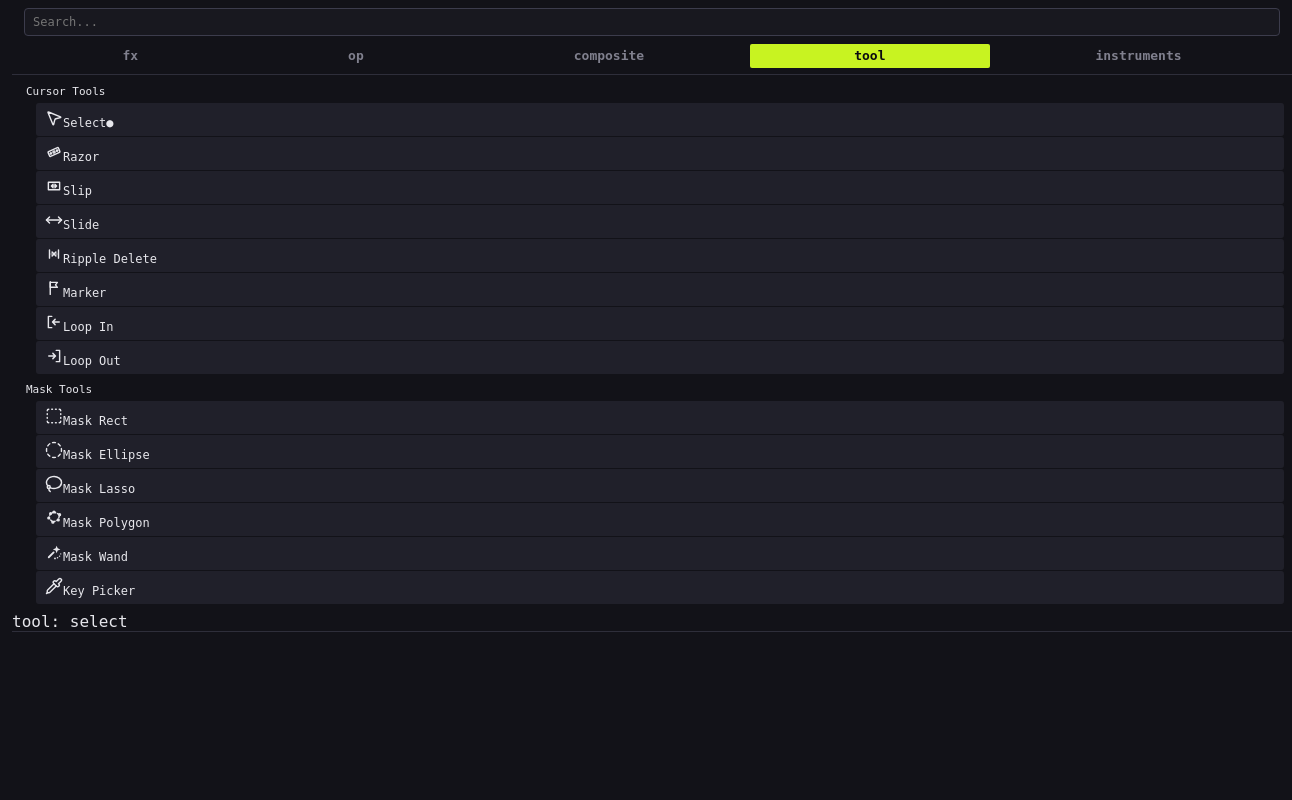
it: Wand tolerance control (cohesion: WIRE setWandTolerance) › selecting the Mask Wand tool reveals the tolerance slider
Click the button with test id "tool-item-mask-wand".
click(96, 557)  # box [36,537,1284,570]
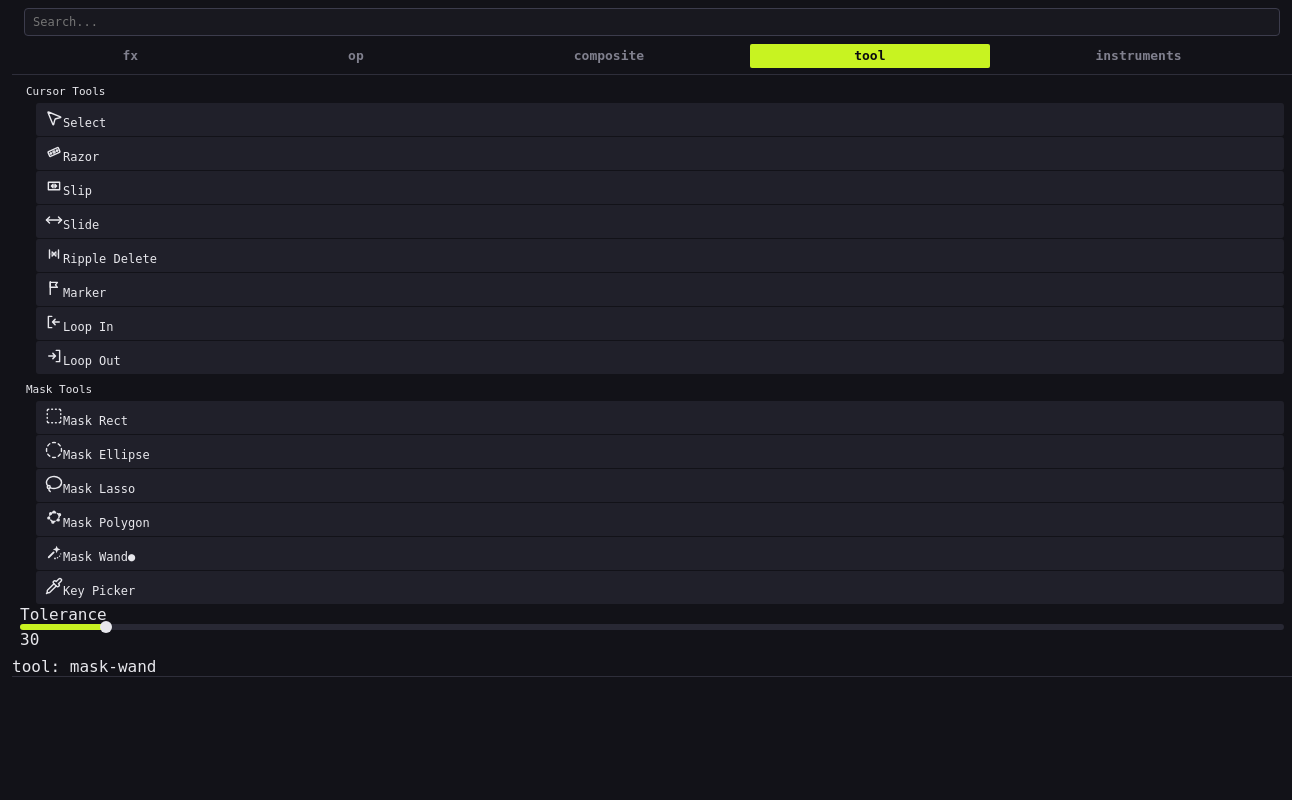
Check: the text "Tolerance 30" is shown, box [20,605,1284,649]
Check: the slider with test id "wand-tolerance" is shown, box [20,624,1284,630]
